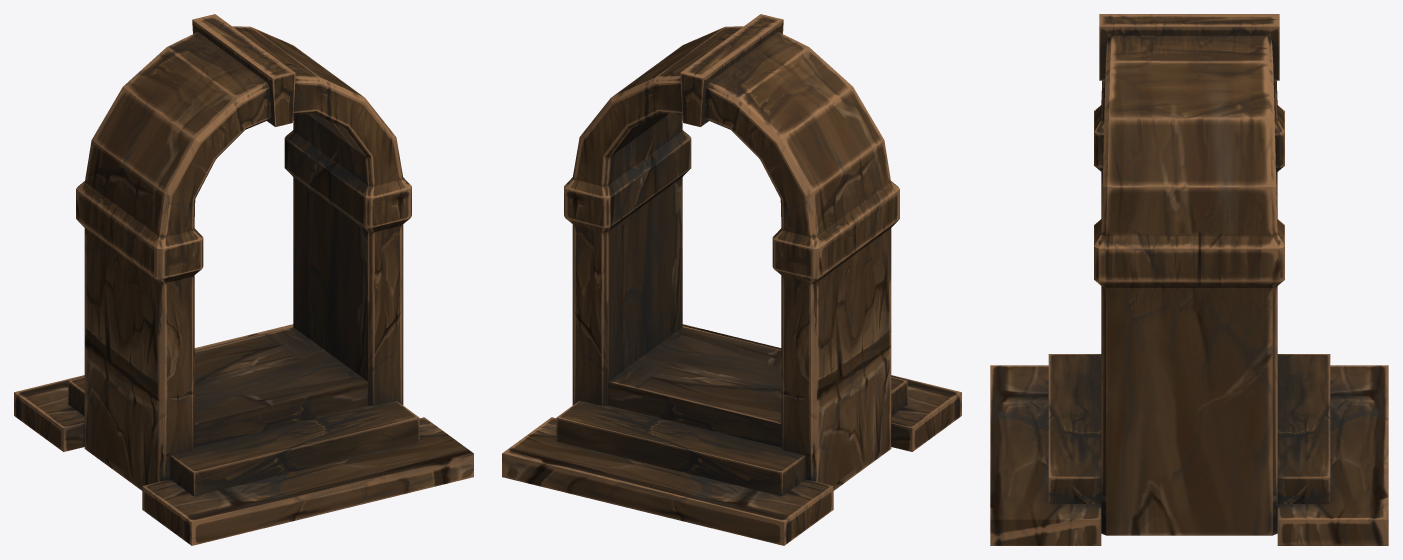
File: PortalGate.fbx
3 views of the same model, side by side, from view 1: azimuth 30°, elevation 25°; view 2: azimuth 150°, elevation 25°; view 3: azimuth 270°, elevation 25° (orthographic). The views are drawn at different scales.
Visible parts, largest first — view 1: PortalGate; view 2: PortalGate; view 3: PortalGate.
Boxes of the visible parts, x1,y1,x2,y2 form: PortalGate: [14, 14, 473, 545]; PortalGate: [502, 14, 961, 545]; PortalGate: [990, 14, 1388, 545].
Size of the model in its own units: 2.5 by 3.39 by 2.73.
